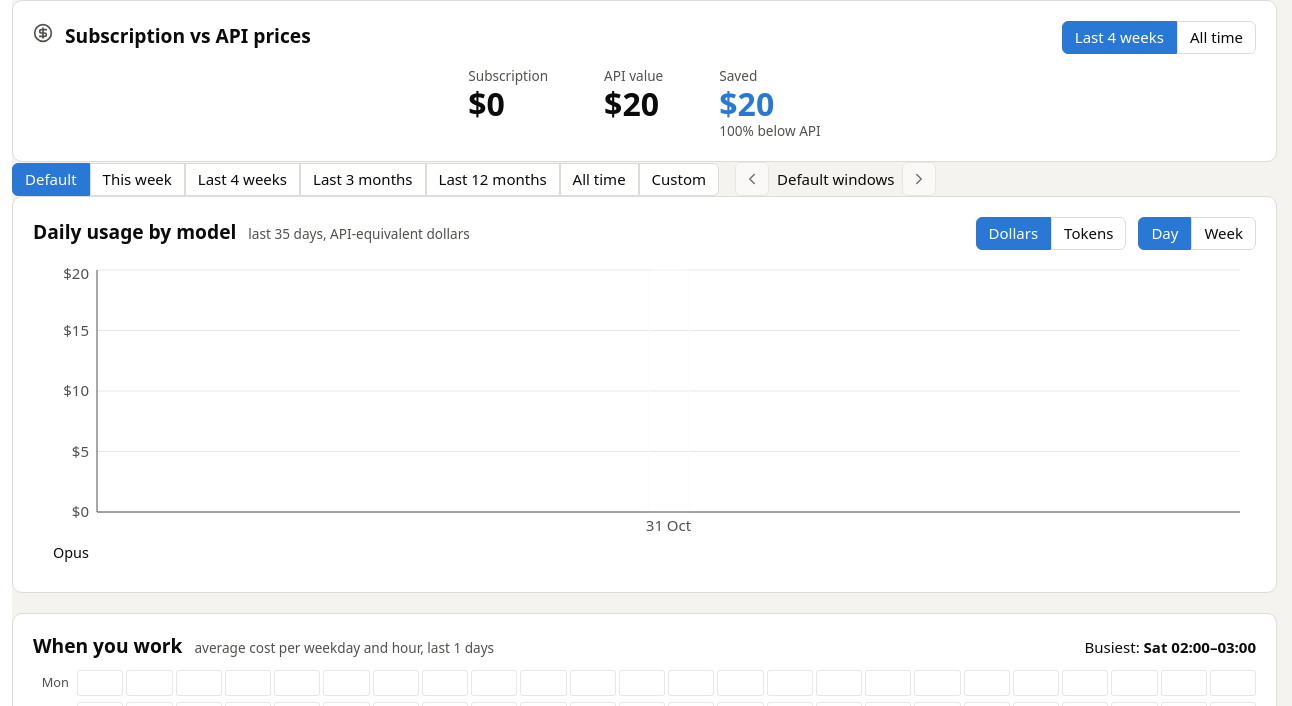
it: usage tab › switches the chart between days and weeks
The width and height of the screenshot is (1292, 706).
Expected: the heading "Daily usage by model" is shown, [33,220,236,244]
Click the button "Week" at (1224, 234), box [1191,218,1256,250]
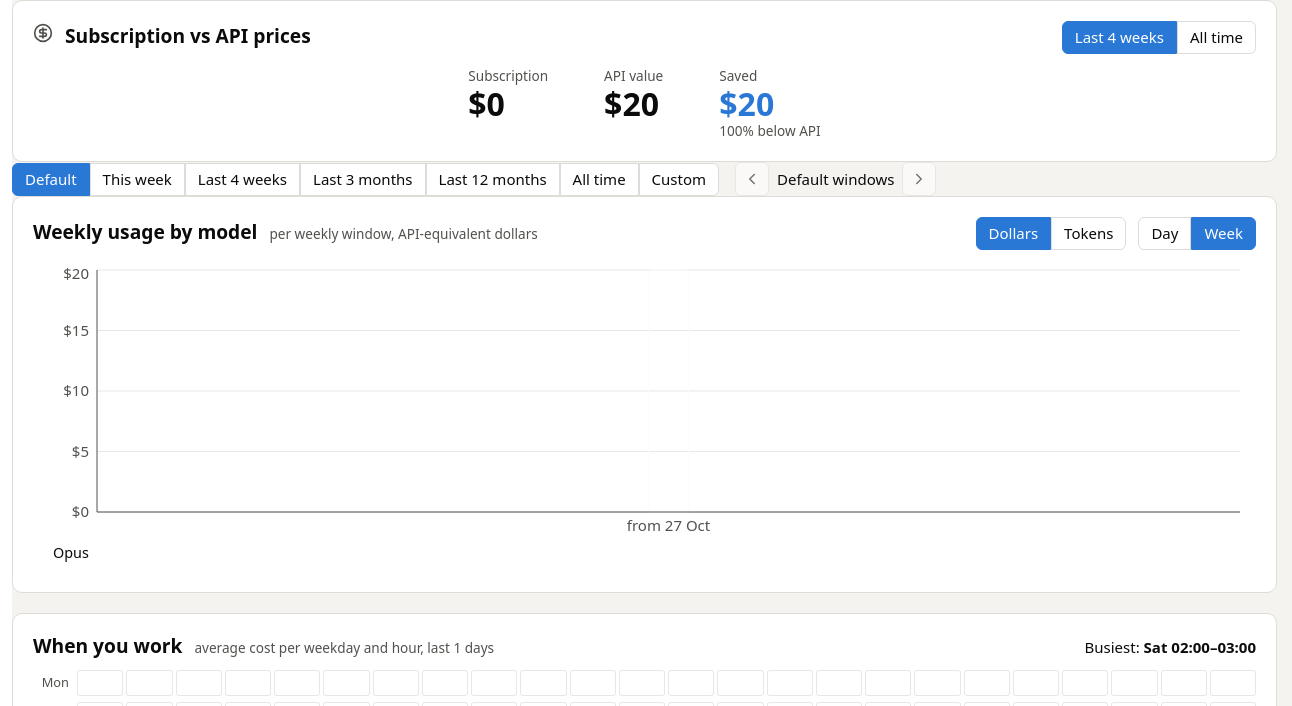
Expected: the heading "Weekly usage by model" is shown, [33,220,257,244]
